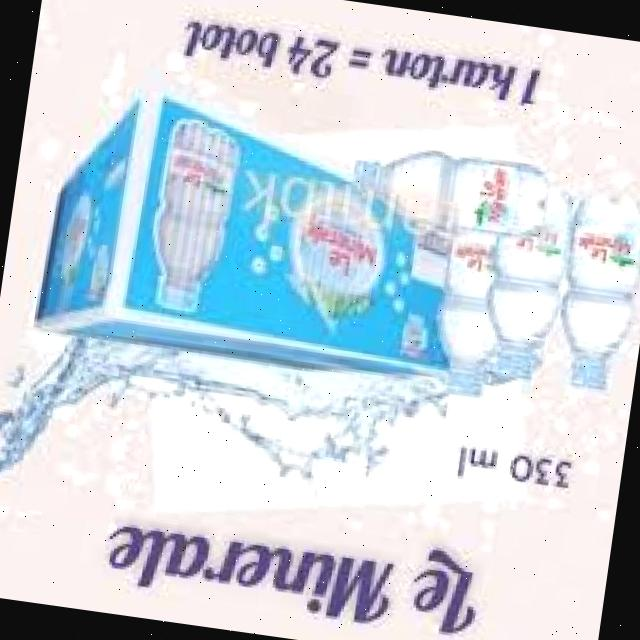bottle: (326, 125, 594, 237), (414, 204, 522, 414), (543, 188, 640, 402), (476, 188, 570, 382)
